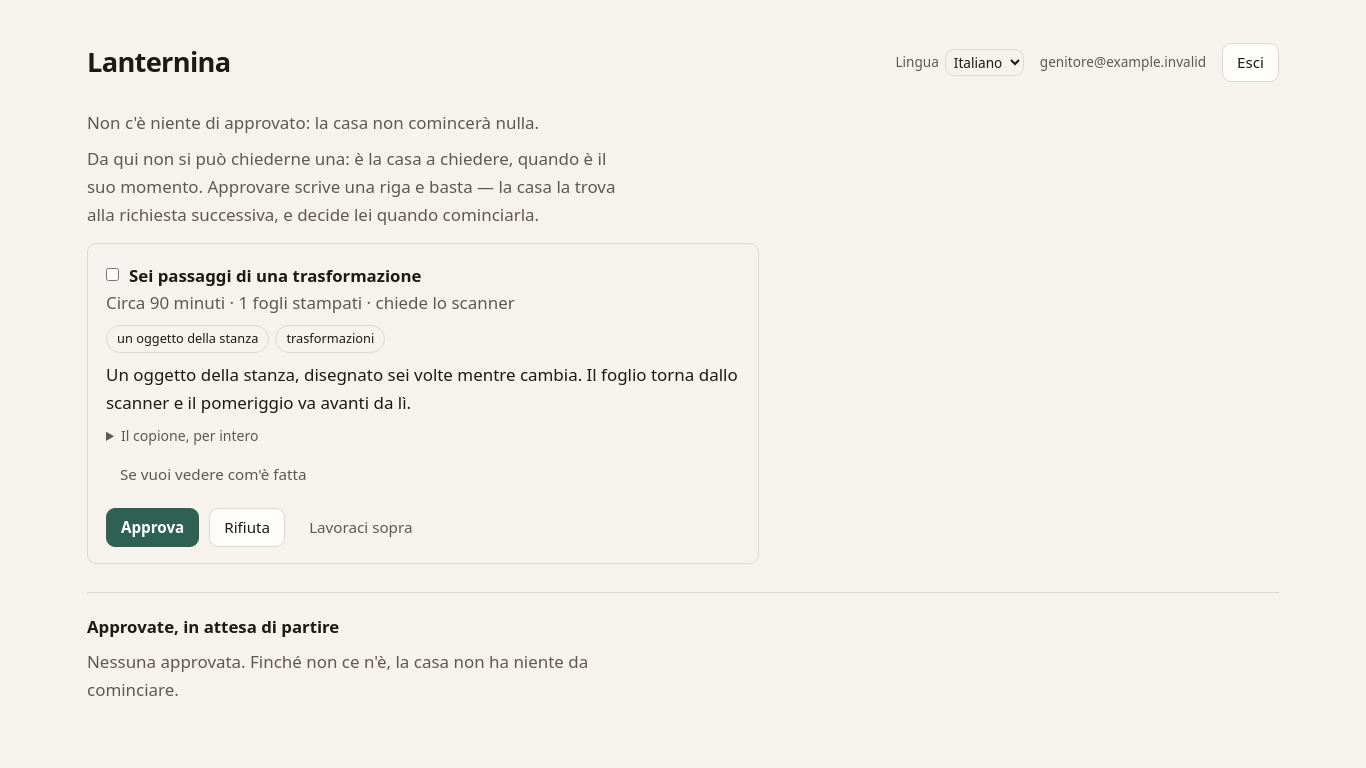
Test case: an afternoon offered to the parent › records an approval and takes it off the list of things to decide
expect the text "Sei passaggi di una trasformazione" is shown: met, box [129,262,421,290]
Click the button "Approva" at (153, 527), box [106,508,199,547]
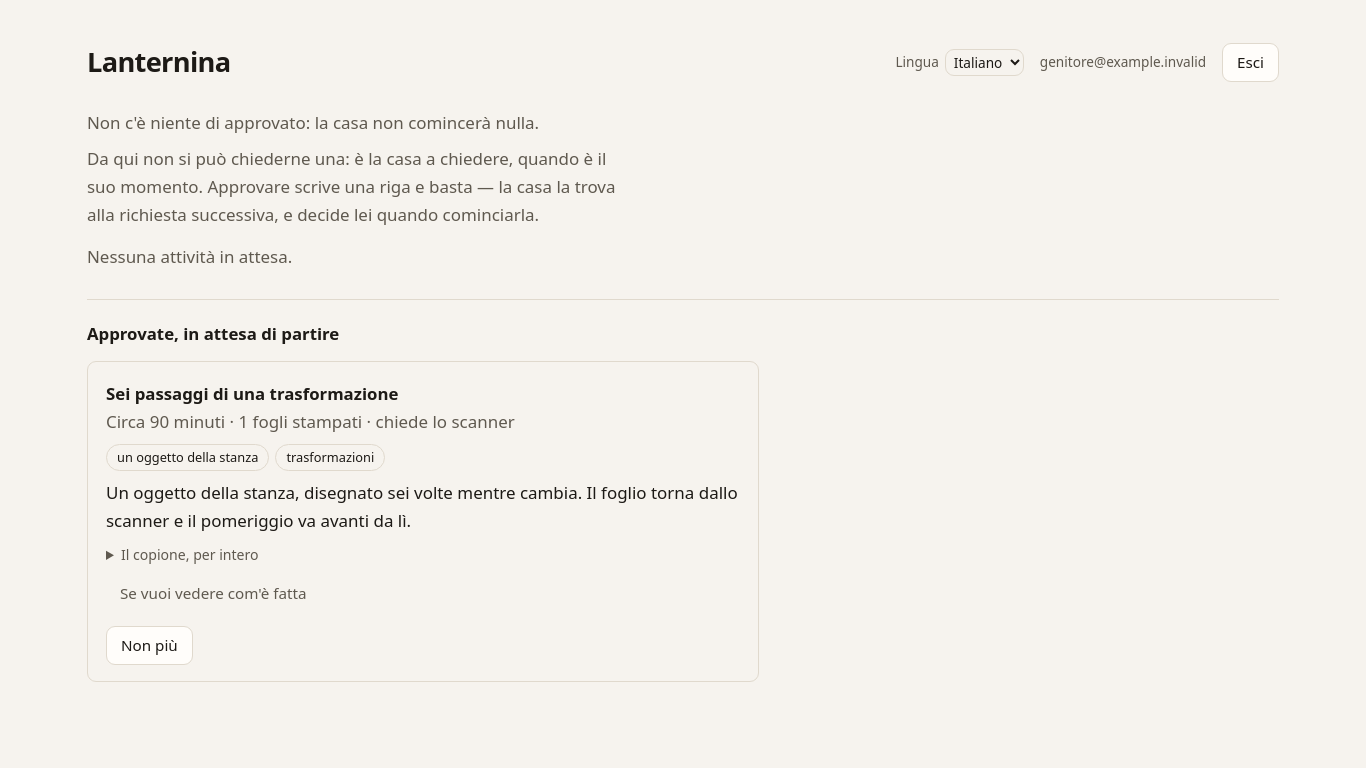
expect the text "Nessuna attività in attesa." is shown: met, box [87,245,292,268]
